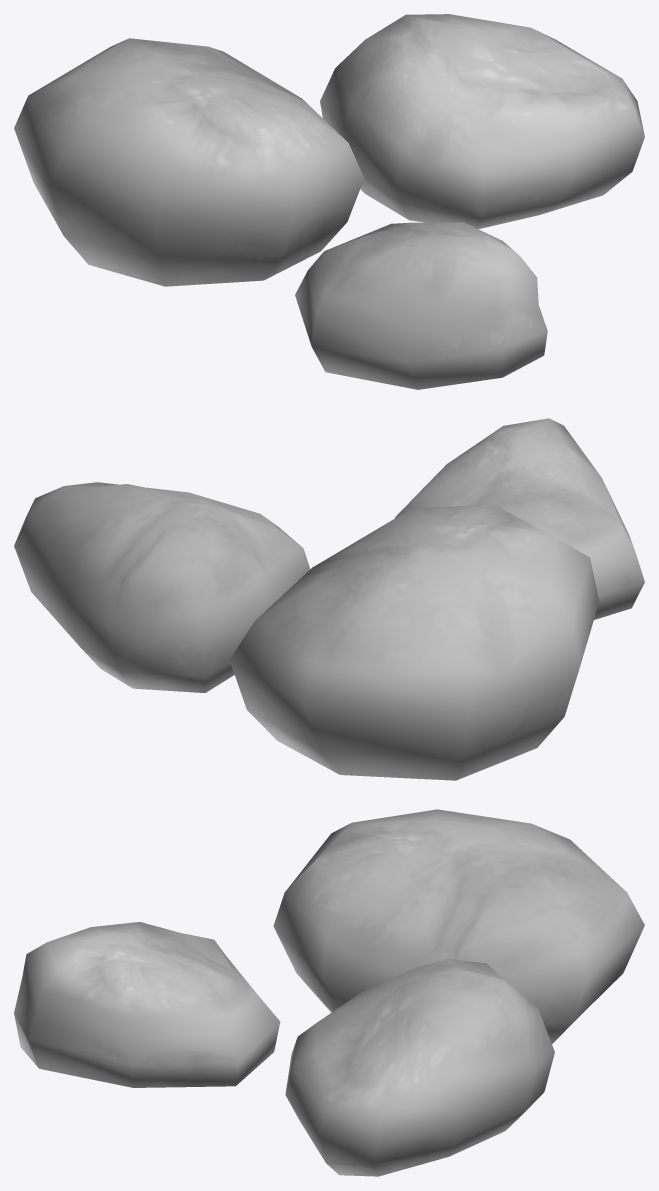
The model's file is SM_ENV_pebbles_ancient_01.fbx.
3 views of the same model, one above another, from view 1: azimuth 30°, elevation 25°; view 2: azimuth 150°, elevation 25°; view 3: azimuth 270°, elevation 25° (orthographic). The views are drawn at different scales.
Parts seen in each view (by area): view 1: SM_ENV_pebbles_ancient_01_LOD0; view 2: SM_ENV_pebbles_ancient_01_LOD0; view 3: SM_ENV_pebbles_ancient_01_LOD0.
Part boxes in pixels (box(x1,y1,x2,y2)): SM_ENV_pebbles_ancient_01_LOD0: box(14, 14, 644, 389); SM_ENV_pebbles_ancient_01_LOD0: box(14, 418, 644, 780); SM_ENV_pebbles_ancient_01_LOD0: box(14, 809, 644, 1176).
Size of the model in its own units: 22.07 by 6.9 by 22.49.
